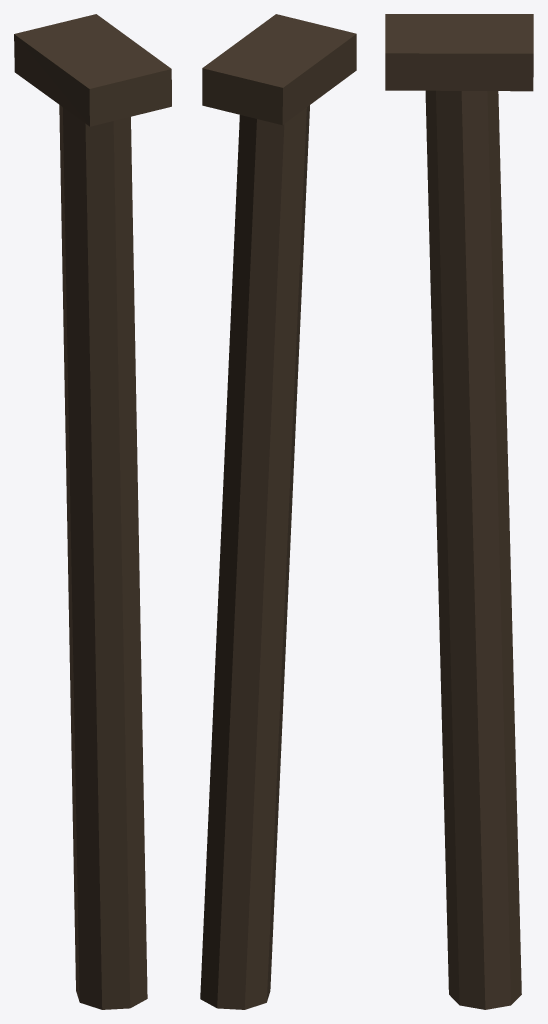
Rendered from tool_single_support.glb.
3 renders of one model, left to right at view 1: azimuth 30°, elevation 25°; view 2: azimuth 150°, elevation 25°; view 3: azimuth 270°, elevation 25°, orthographic.
Parts seen in each view (by area): view 1: product-8309c9a7-e4ed-498d-98ba-776008811772-body; view 2: product-8309c9a7-e4ed-498d-98ba-776008811772-body; view 3: product-8309c9a7-e4ed-498d-98ba-776008811772-body.
Boxes of the visible parts, x1,y1,x2,y2 form: product-8309c9a7-e4ed-498d-98ba-776008811772-body: (14,14,171,1009); product-8309c9a7-e4ed-498d-98ba-776008811772-body: (200,14,356,1009); product-8309c9a7-e4ed-498d-98ba-776008811772-body: (385,14,533,1009).
Bounding box in the file's own units: 0.0516 × 0.45 × 0.0641.
